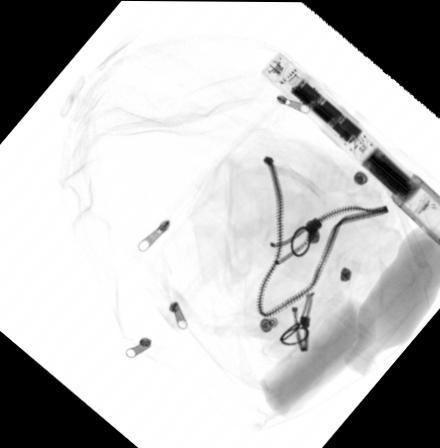Baton: (258, 50, 440, 247)
